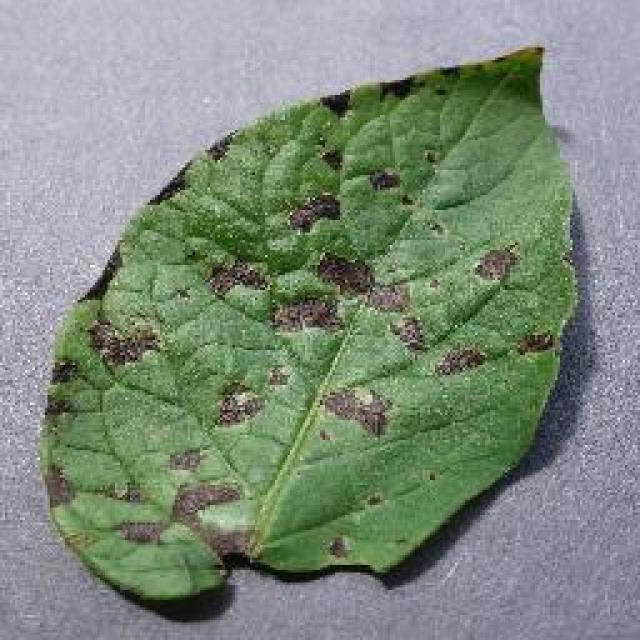Potato___Early_blight: (25, 30, 590, 632)
